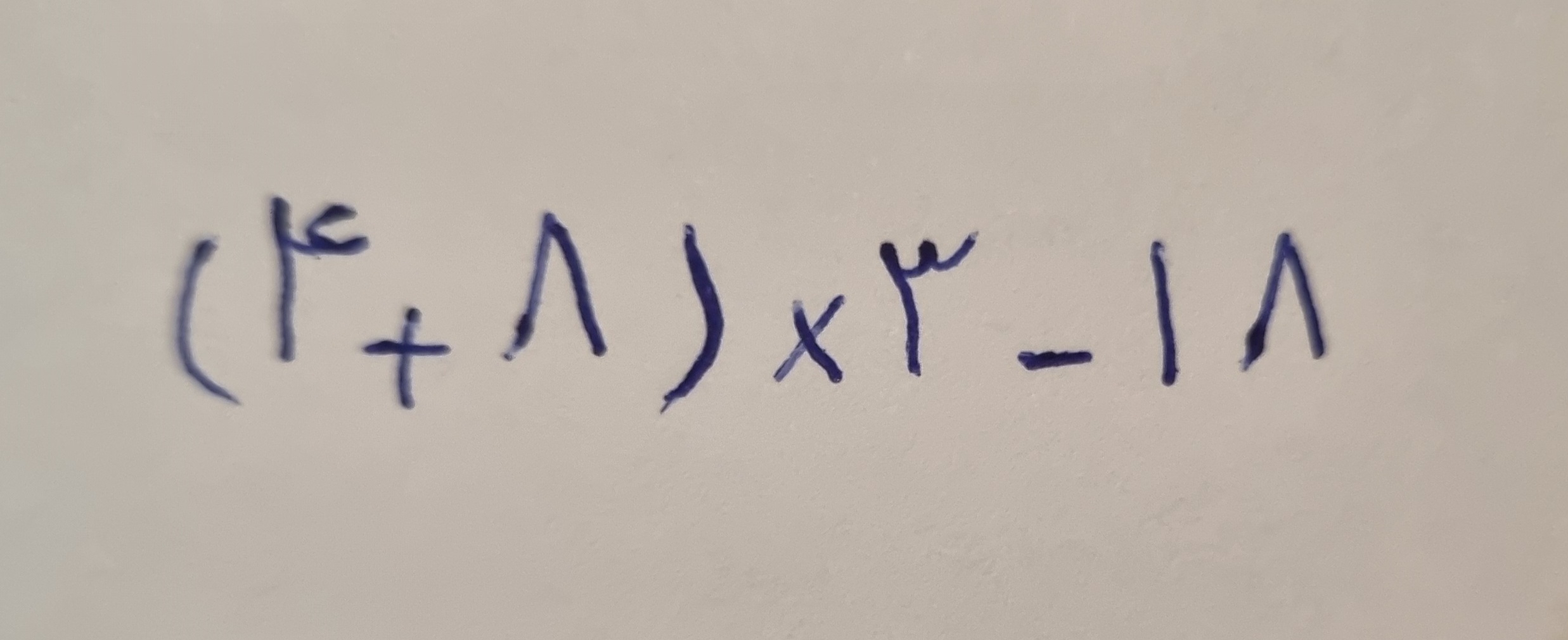character: (268, 192, 372, 365), (499, 209, 610, 365), (878, 231, 978, 378), (657, 223, 725, 420), (171, 233, 245, 408), (1236, 233, 1327, 371), (362, 306, 454, 413), (772, 293, 848, 387), (1148, 239, 1179, 387), (1014, 346, 1092, 371)
